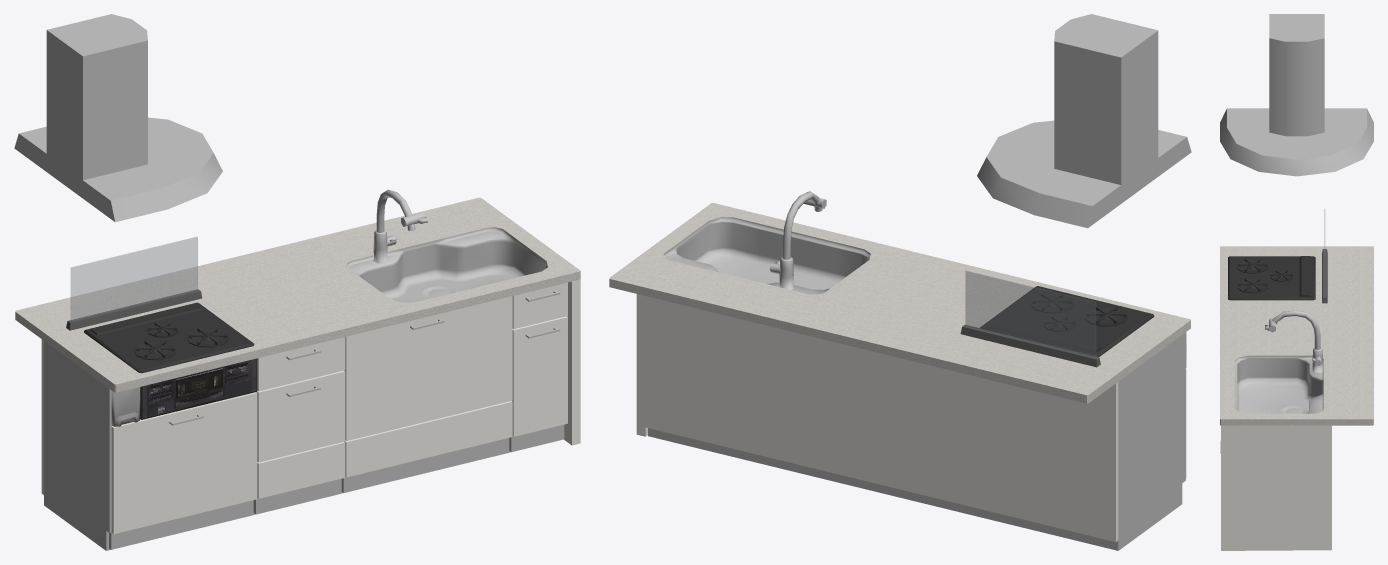
Rendered from ｷｯﾁﾝR12.gltf.
3 views of the same model, side by side, from view 1: azimuth 30°, elevation 25°; view 2: azimuth 150°, elevation 25°; view 3: azimuth 270°, elevation 25° (orthographic). The views are drawn at different scales.
Visible parts, largest first — view 1: 4_primitive, 3_primitive, 5_primitive, 2_primitive, 19_primitive, 1_primitive, 18_primitive, 9_primitive, 14_primitive, 7_primitive, 15_primitive, 21_primitive (+4 smaller); view 2: 6_primitive, 3_primitive, 2_primitive, 5_primitive, 19_primitive, 1_primitive, 18_primitive, 9_primitive, 15_primitive, 7_primitive, 21_primitive, 11_primitive; view 3: 3_primitive, 7_primitive, 1_primitive, 2_primitive, 19_primitive, 9_primitive, 21_primitive, 11_primitive, 10_primitive, 13_primitive, 15_primitive.
Boxes of the visible parts, <box> form: 4_primitive: <box>111,282,567,533</box>; 3_primitive: <box>15,197,580,392</box>; 5_primitive: <box>44,341,564,550</box>; 2_primitive: <box>14,14,213,221</box>; 19_primitive: <box>346,227,547,302</box>; 1_primitive: <box>46,30,222,221</box>; 18_primitive: <box>71,237,197,321</box>; 9_primitive: <box>86,302,251,369</box>; 14_primitive: <box>140,358,257,419</box>; 7_primitive: <box>564,279,580,445</box>; 15_primitive: <box>66,289,202,330</box>; 21_primitive: <box>373,189,415,263</box>; 6_primitive: <box>645,296,1118,541</box>; 3_primitive: <box>609,203,1190,403</box>; 2_primitive: <box>986,14,1191,227</box>; 5_primitive: <box>648,332,1185,550</box>; 19_primitive: <box>663,217,870,294</box>; 1_primitive: <box>977,31,1158,228</box>; 18_primitive: <box>965,271,1095,357</box>; 9_primitive: <box>981,286,1151,354</box>; 15_primitive: <box>960,324,1100,367</box>; 7_primitive: <box>636,294,647,436</box>; 21_primitive: <box>779,191,826,289</box>; 11_primitive: <box>1031,294,1128,330</box>; 3_primitive: <box>1220,246,1373,425</box>; 7_primitive: <box>1221,425,1331,550</box>; 1_primitive: <box>1220,38,1373,176</box>; 2_primitive: <box>1227,14,1366,159</box>; 19_primitive: <box>1234,355,1323,413</box>; 9_primitive: <box>1229,256,1313,297</box>; 21_primitive: <box>1267,310,1323,372</box>; 11_primitive: <box>1237,259,1292,292</box>; 10_primitive: <box>1228,256,1315,300</box>; 13_primitive: <box>1237,259,1292,291</box>; 15_primitive: <box>1322,249,1327,303</box>.
Size of the model in its own units: 2.4 by 2.35 by 0.9.
Materials: 22 (2 with a texture image).
